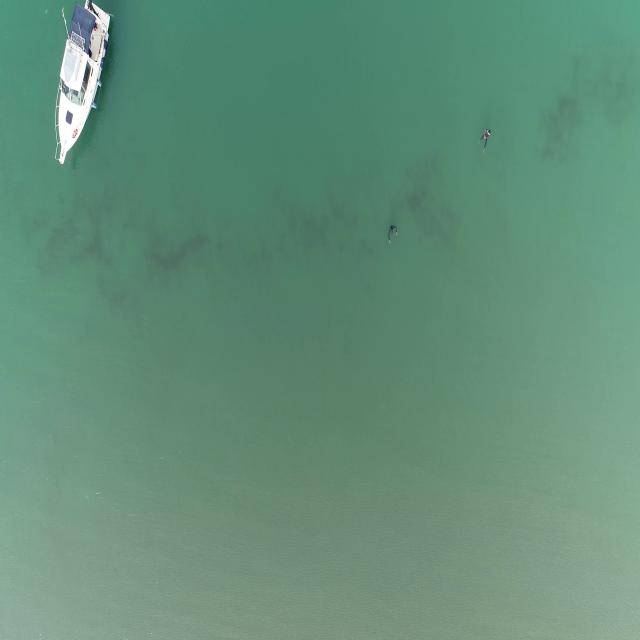boat: (52, 1, 112, 166)
person: (480, 129, 492, 157), (385, 224, 399, 247)
